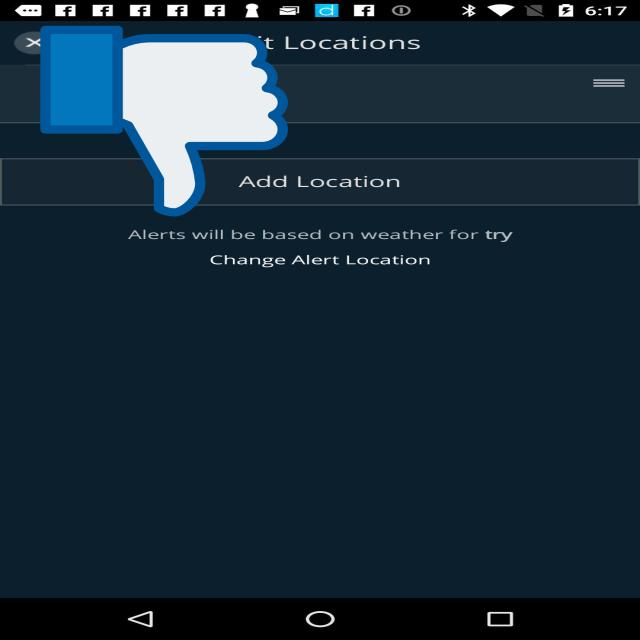obstruction: (40, 22, 288, 220)
